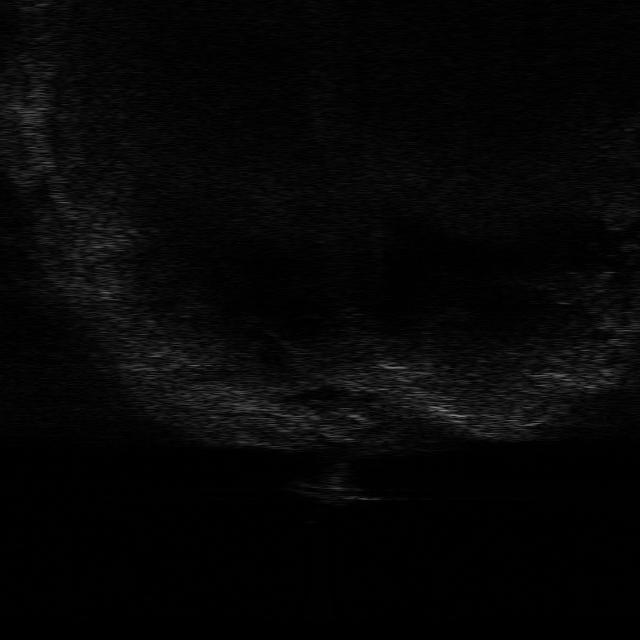plane: (283, 479, 382, 504)
